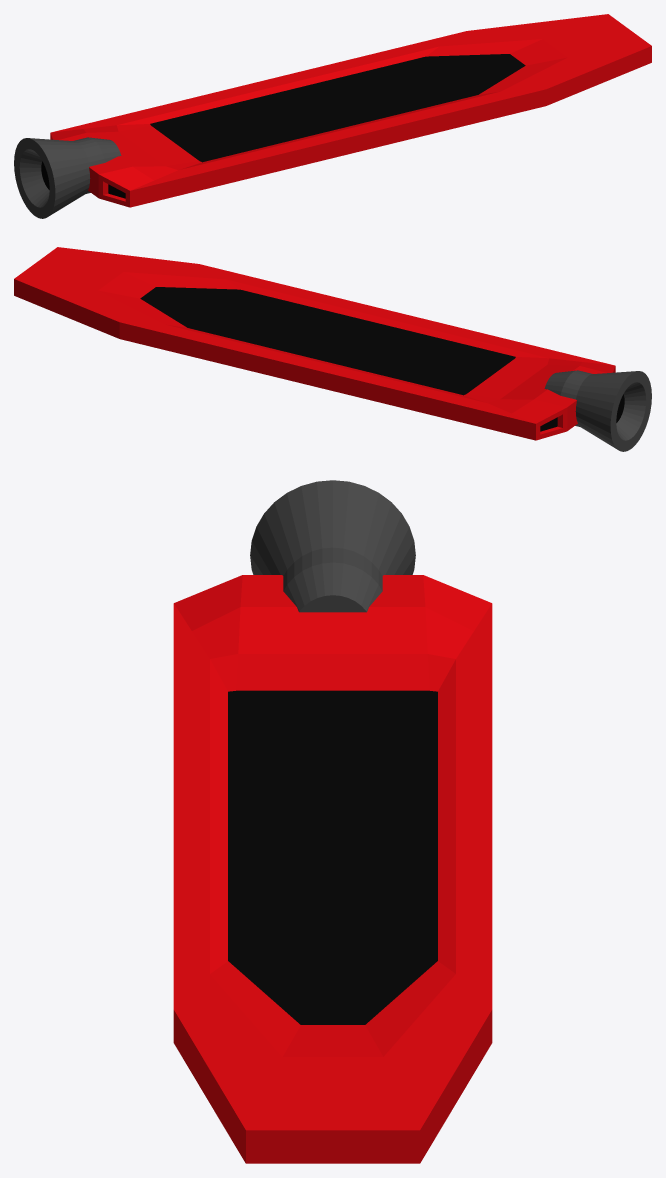
File: HoverboardRed(2).fbx
3 views of the same model, one above another, from view 1: azimuth 30°, elevation 25°; view 2: azimuth 150°, elevation 25°; view 3: azimuth 270°, elevation 25° (orthographic). The views are drawn at different scales.
Parts seen in each view (by area): view 1: Hoverboard 11; view 2: Hoverboard 11; view 3: Hoverboard 11.
Part boxes in pixels (bbox=[...]): Hoverboard 11: bbox=[14, 14, 651, 218]; Hoverboard 11: bbox=[14, 247, 651, 451]; Hoverboard 11: bbox=[173, 480, 492, 1163].
Size of the model in its own units: 864 by 104 by 200.
